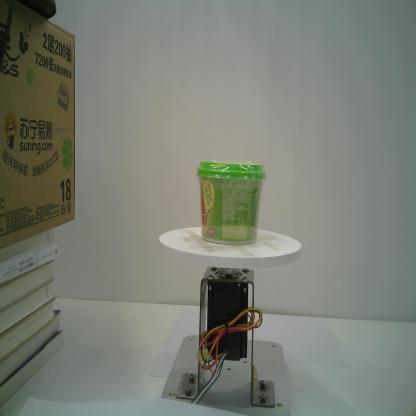Instant Drink: (196, 161, 266, 245)
